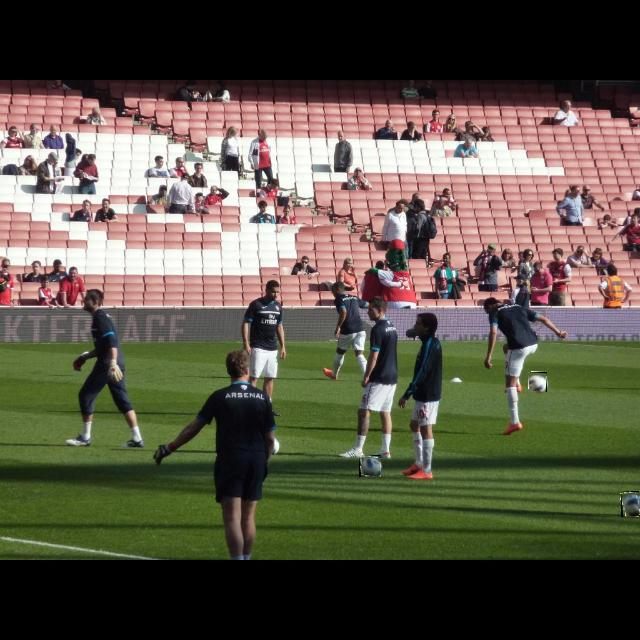Football: (359, 455, 381, 477), (621, 491, 639, 517), (529, 372, 547, 392)
